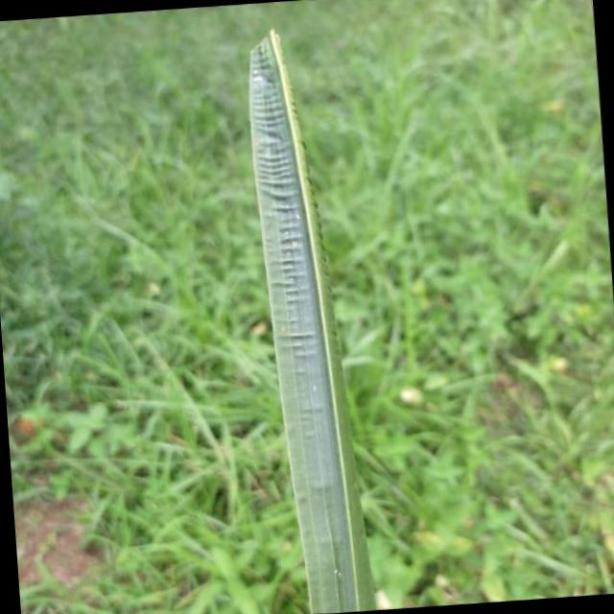Boron: (245, 24, 379, 614)
